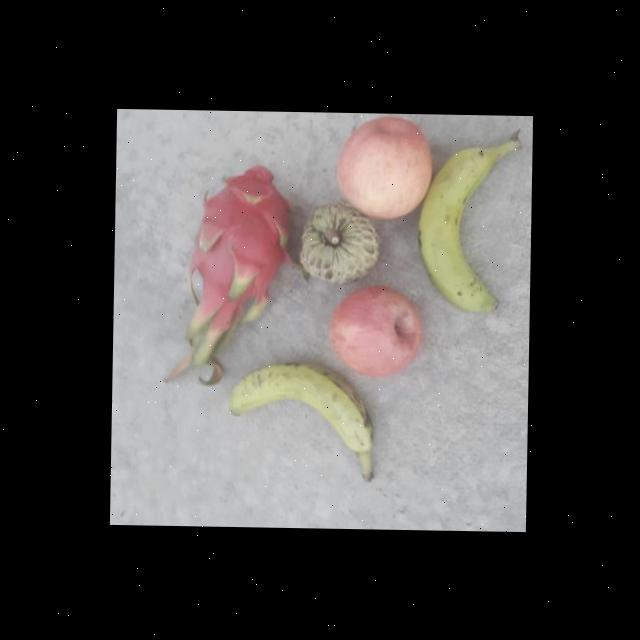Sakya fruit: (293, 200, 379, 280)
apple: (332, 112, 430, 218), (324, 280, 422, 376)
banana: (222, 358, 372, 488), (412, 142, 517, 322)
pitaya: (184, 160, 294, 314)
